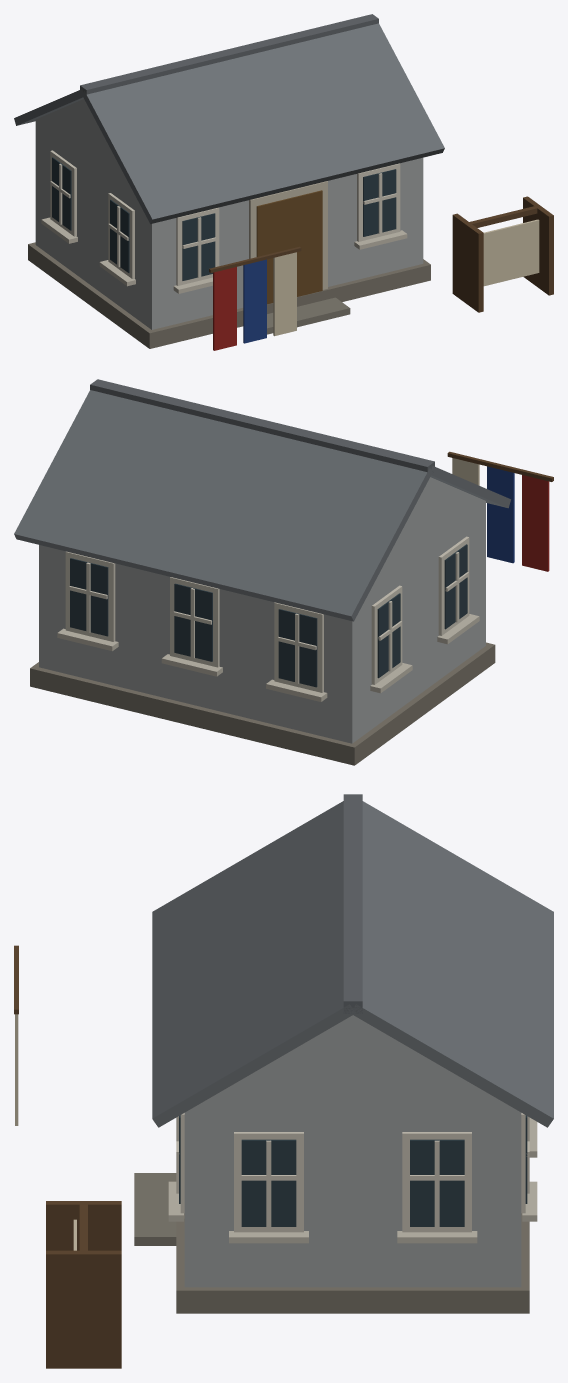
File: procedural_weaver@6.glb
3 views of the same model, one above another, from view 1: azimuth 30°, elevation 25°; view 2: azimuth 150°, elevation 25°; view 3: azimuth 270°, elevation 25° (orthographic). The views are drawn at different scales.
Visible parts, largest first — view 1: part_0; view 2: part_0; view 3: part_0.
Part boxes in pixels (x1,y1,x2,y2): part_0: [14, 14, 553, 350]; part_0: [14, 379, 553, 765]; part_0: [14, 794, 553, 1368].
Size of the model in its own units: 7.26 by 4.15 by 6.42.
